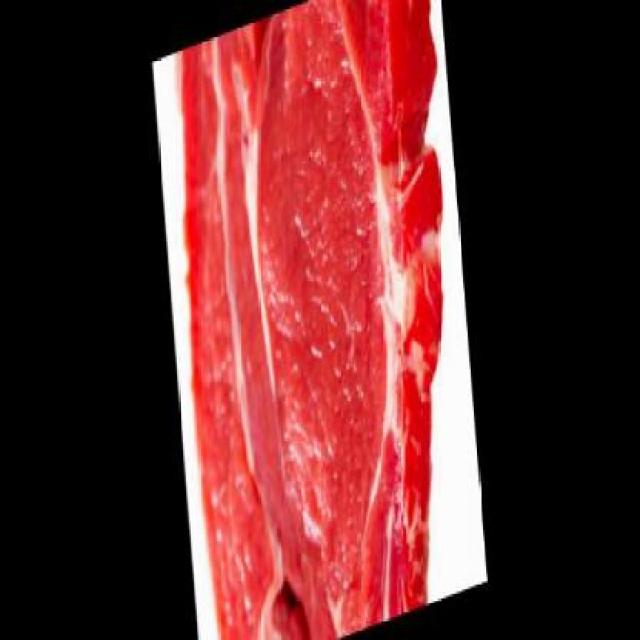beaf: (162, 0, 483, 637)
